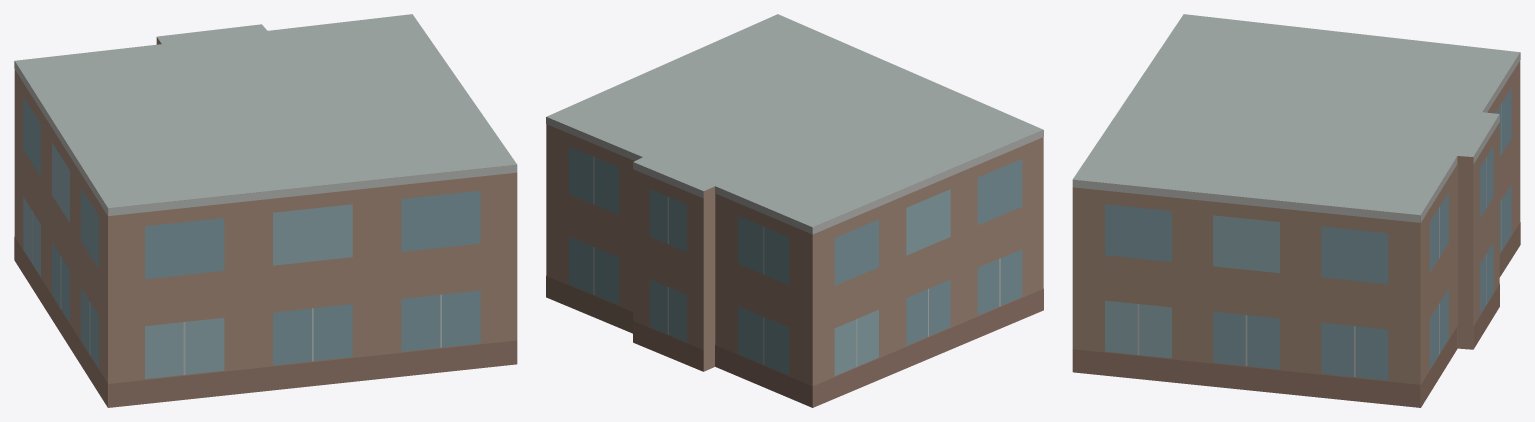
The model's file is survey-upis-32973490.glb.
The picture shows the model from 3 angles, left to right: view 1: azimuth 30°, elevation 25°; view 2: azimuth 150°, elevation 25°; view 3: azimuth 270°, elevation 25°; orthographic projection. The views are drawn at different scales.
Parts seen in each view (by area): view 1: survey-upis-32973490.tmp; view 2: survey-upis-32973490.tmp; view 3: survey-upis-32973490.tmp.
Part boxes in pixels (box(x1,y1,x2,y2)): survey-upis-32973490.tmp: box(14, 14, 517, 407); survey-upis-32973490.tmp: box(546, 14, 1043, 407); survey-upis-32973490.tmp: box(1072, 14, 1520, 407).
Size of the model in its own units: 13.67 by 6.1 by 12.87.
